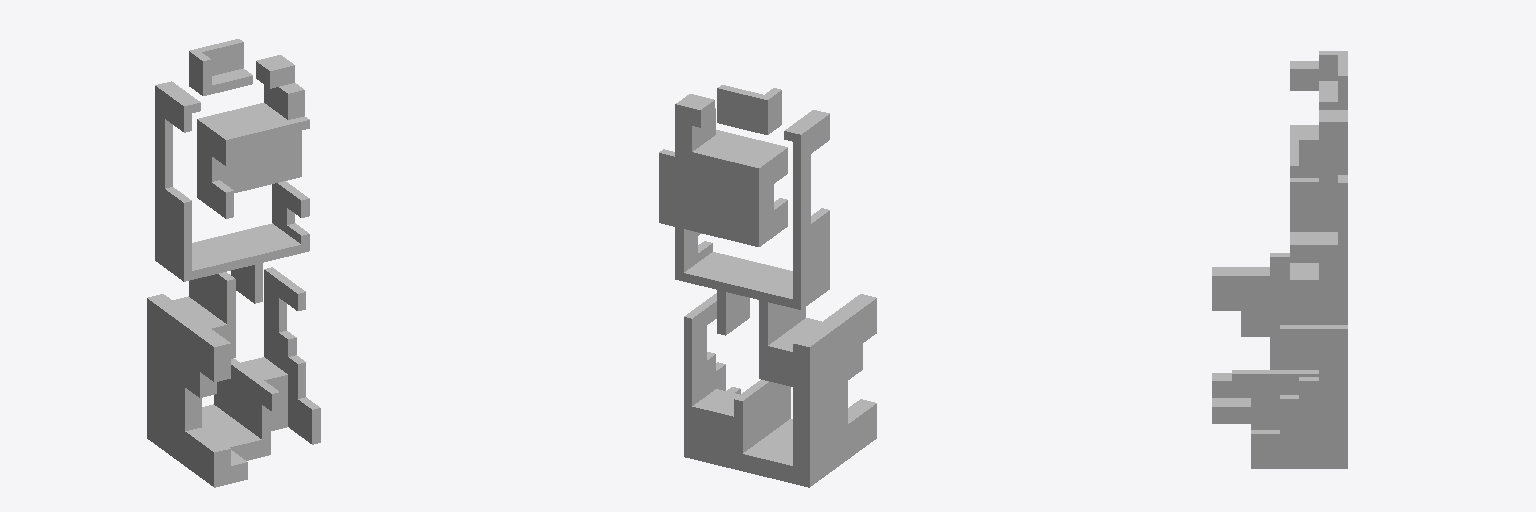
The model's file is research base destroyed.obj.
3 views of the same model, side by side, from view 1: azimuth 30°, elevation 25°; view 2: azimuth 150°, elevation 25°; view 3: azimuth 270°, elevation 25° (orthographic).
Bounding box in the file's own units: 18 × 43 × 14.